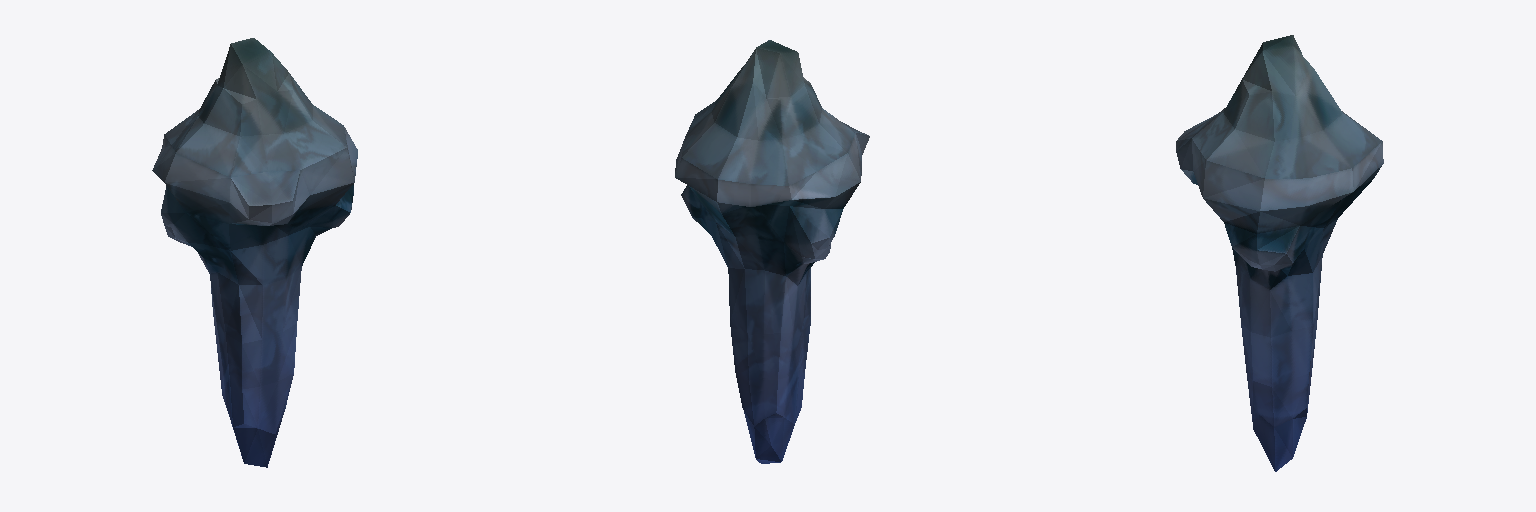
3 renders of one model, left to right at view 1: azimuth 30°, elevation 25°; view 2: azimuth 150°, elevation 25°; view 3: azimuth 270°, elevation 25°, orthographic.
Parts seen in each view (by area): view 1: Icicle_Model; view 2: Icicle_Model; view 3: Icicle_Model.
Boxes of the visible parts, box(x1,y1,x2,y2) form: Icicle_Model: box(152, 38, 357, 467); Icicle_Model: box(675, 40, 869, 463); Icicle_Model: box(1176, 35, 1383, 471).
Bounding box in the file's own units: 96.86 × 212 × 94.14.
1 materials, 1 textured.